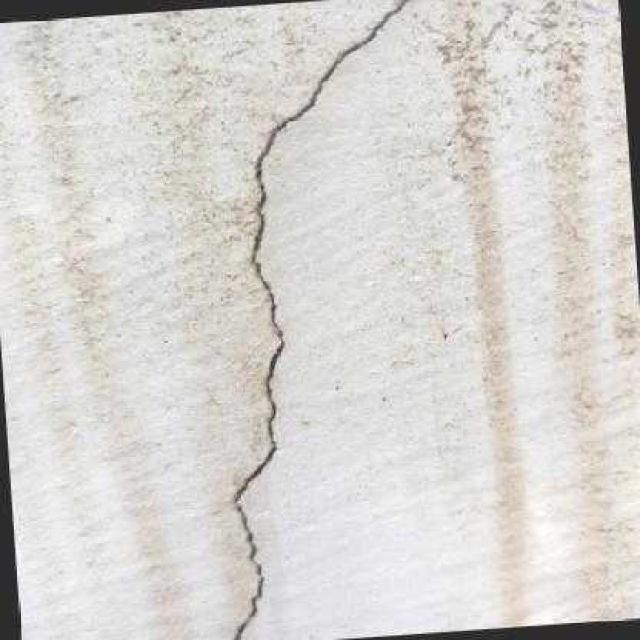D00: (228, 0, 416, 640)
